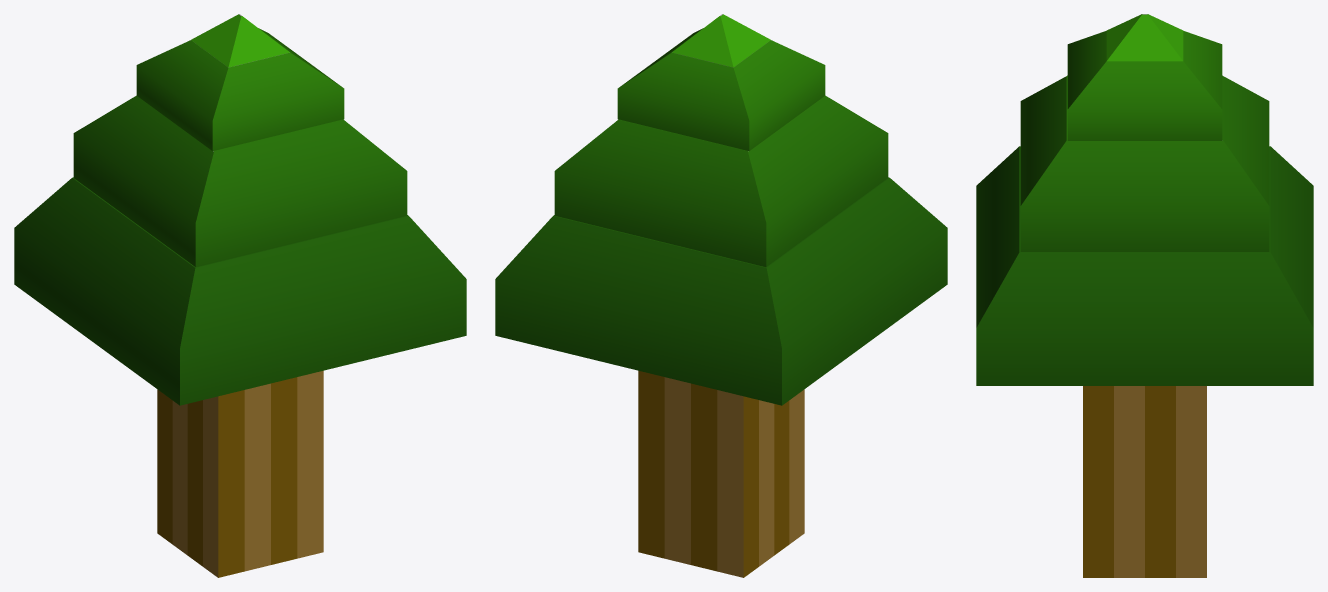
File: tree1.fbx
3 views of the same model, side by side, from view 1: azimuth 30°, elevation 25°; view 2: azimuth 150°, elevation 25°; view 3: azimuth 270°, elevation 25° (orthographic).
Visible parts, largest first — view 1: pCube1; view 2: pCube1; view 3: pCube1.
Boxes of the visible parts, x1=… form: pCube1: x1=14, y1=14, x2=466, y2=577; pCube1: x1=495, y1=14, x2=947, y2=577; pCube1: x1=976, y1=14, x2=1313, y2=577.
Bounding box in the file's own units: 4.43 × 7.78 × 4.43.
